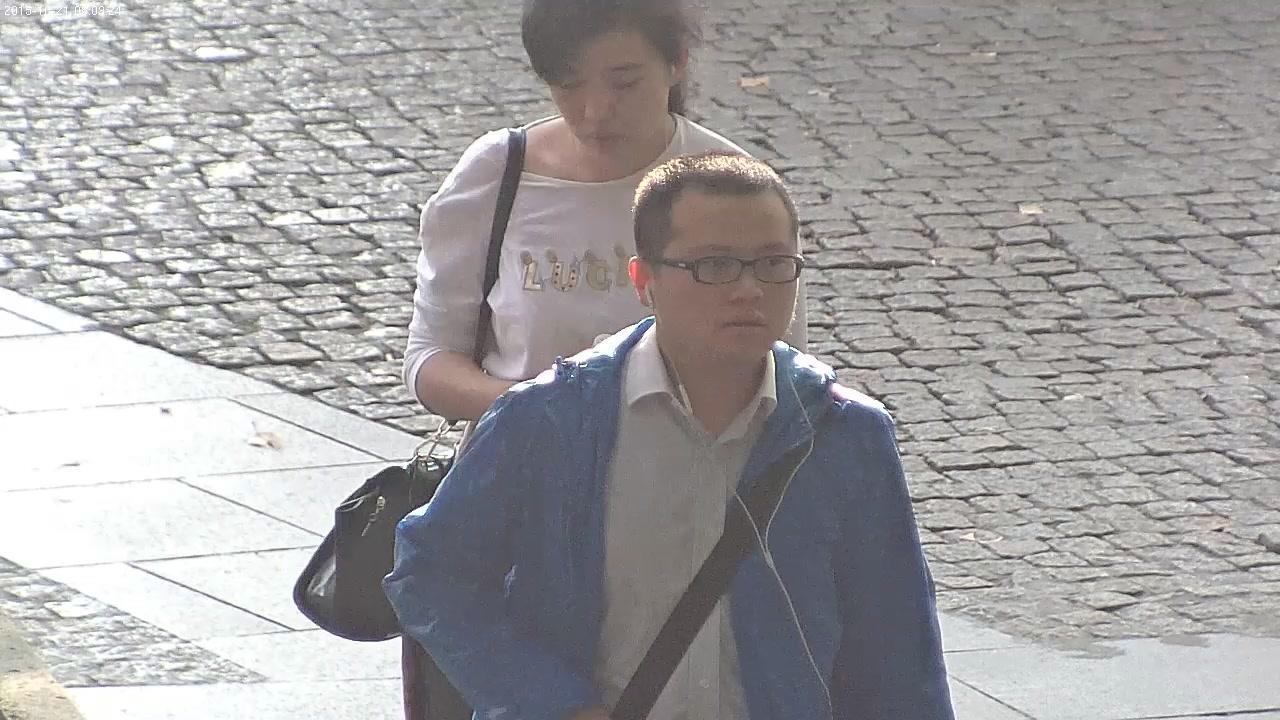person: (294, 0, 808, 720), (381, 146, 954, 720)
